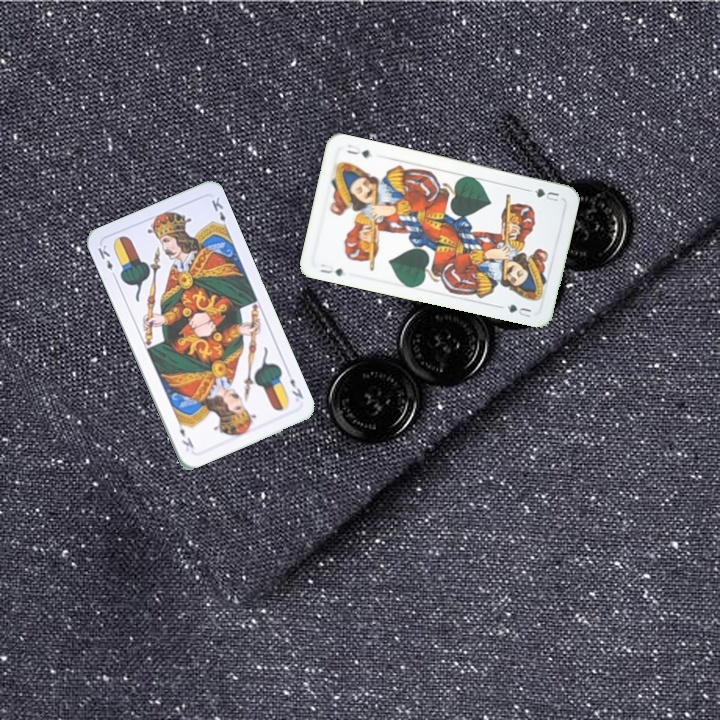EK: (94, 241, 119, 280), (286, 374, 306, 401)
GU: (529, 184, 562, 204), (315, 260, 345, 279)
